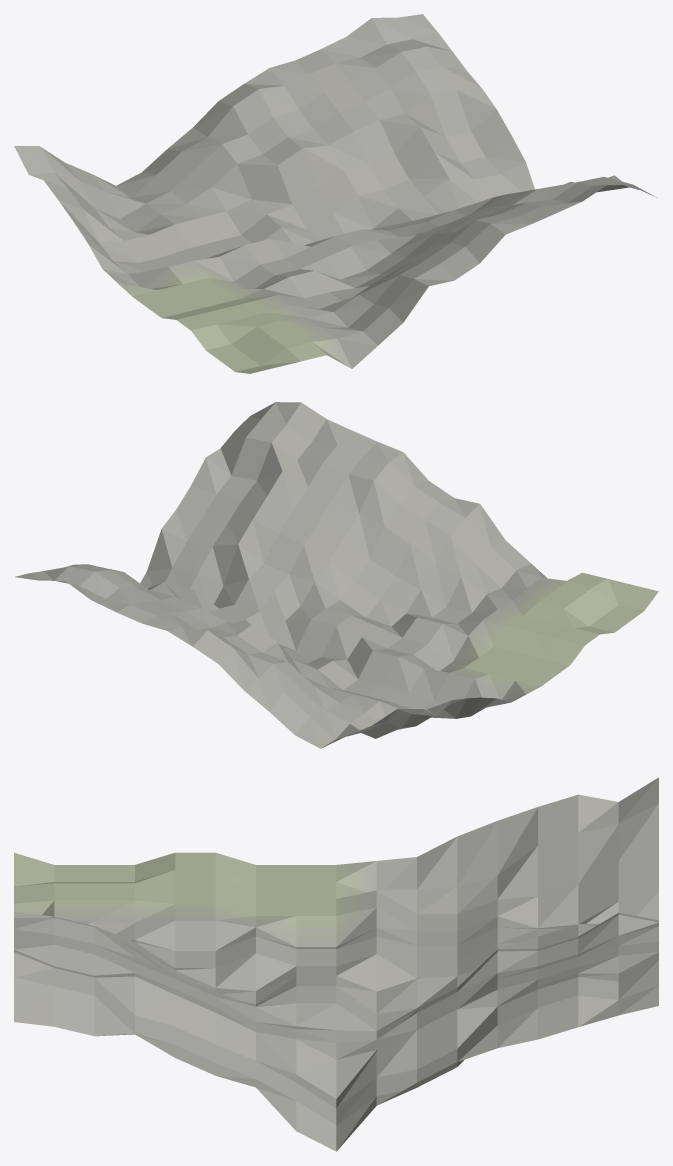
3 views of the same model, one above another, from view 1: azimuth 30°, elevation 25°; view 2: azimuth 150°, elevation 25°; view 3: azimuth 270°, elevation 25° (orthographic). The views are drawn at different scales.
Size of the model in its own units: 32 by 9.11 by 32.
